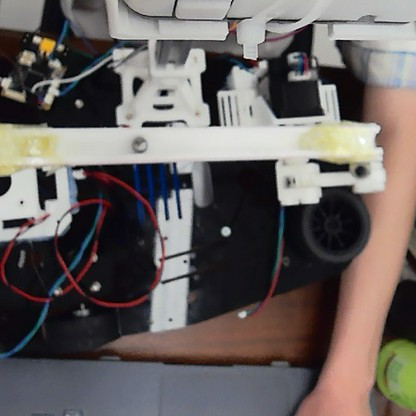ironball: (128, 132, 149, 155)
